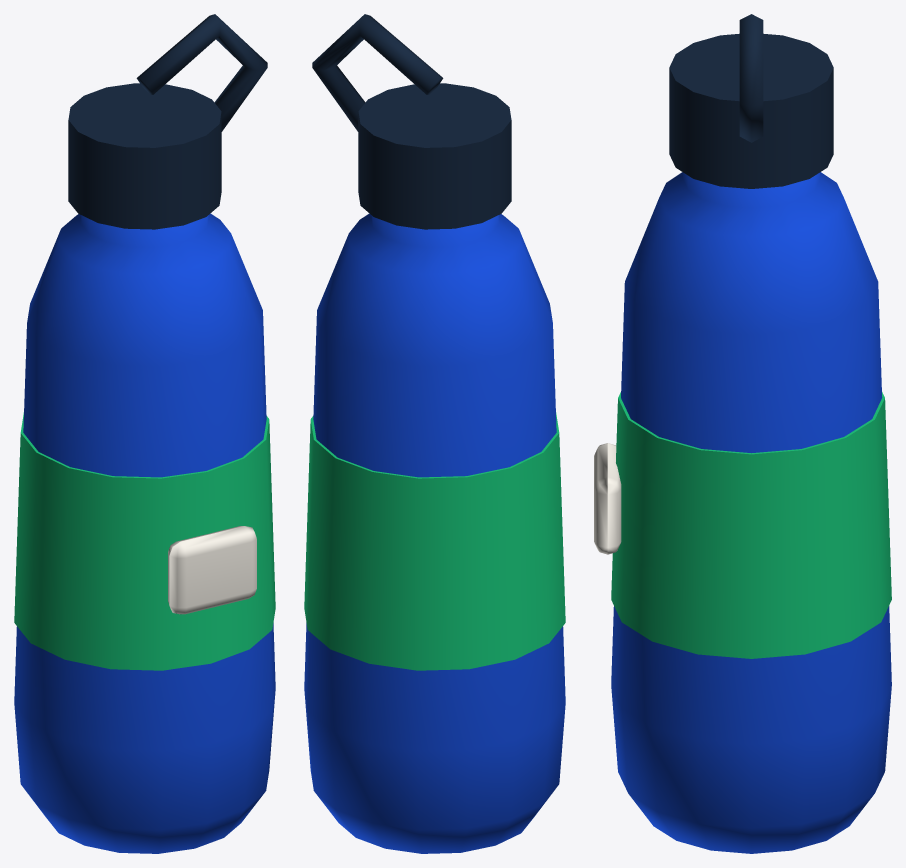
Rendered from 21_Water_Bottle.glb.
3 renders of one model, left to right at view 1: azimuth 30°, elevation 25°; view 2: azimuth 150°, elevation 25°; view 3: azimuth 270°, elevation 25°, orthographic. The views are drawn at different scales.
Visible parts, largest first — view 1: 21_Water_Bottle_EXPORT; view 2: 21_Water_Bottle_EXPORT; view 3: 21_Water_Bottle_EXPORT.
Part boxes in pixels (box(x1,y1,x2,y2)): 21_Water_Bottle_EXPORT: box(14, 14, 275, 853); 21_Water_Bottle_EXPORT: box(304, 14, 565, 853); 21_Water_Bottle_EXPORT: box(594, 14, 891, 853).
Bounding box in the file's own units: 0.17 × 0.536 × 0.174.
